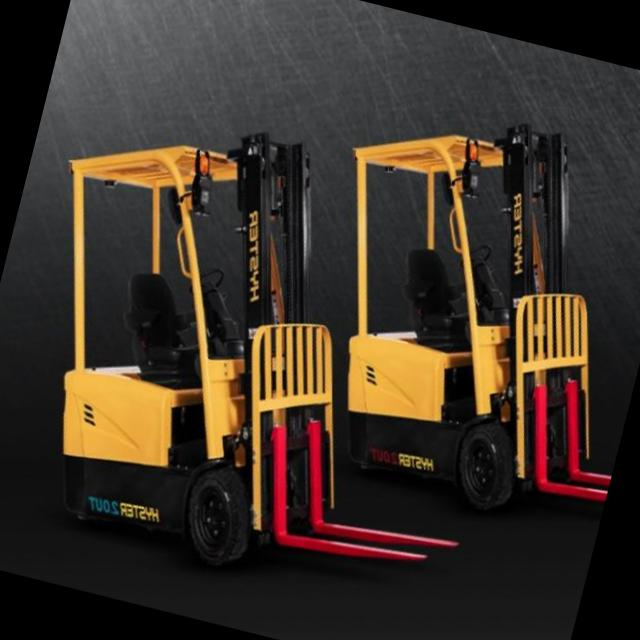forklift: (0, 59, 441, 640), (245, 44, 640, 573)
